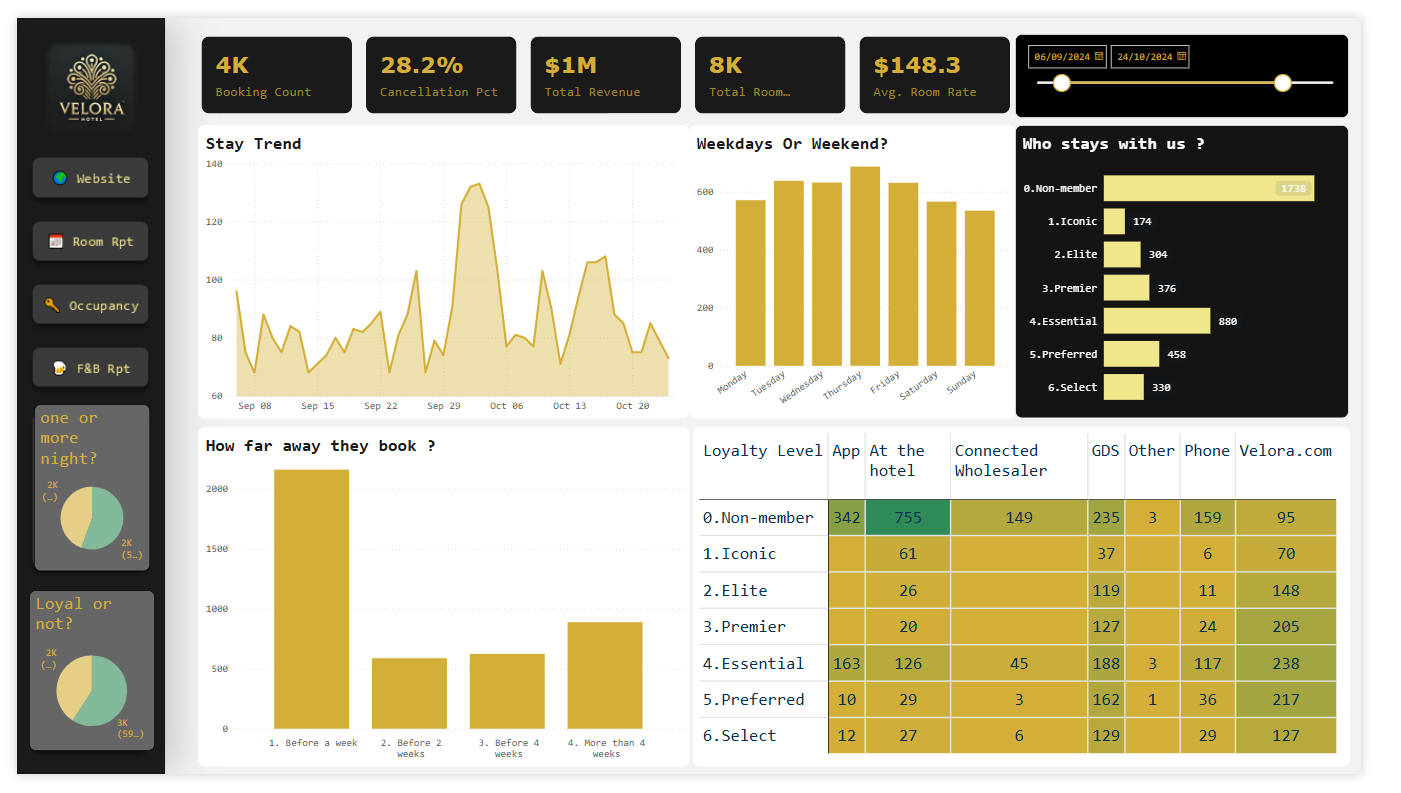

What the dashboard file says about the page in this screenshot:
{"tool":"powerbi","page":{"name":"Bookings Report BLANK","canvas":[1920,1080],"ordinal":0},"visuals":[{"type":"cardVisual","fields":{"Data":["bookings.Booking Count","bookings.Cancellation Pct","bookings.Total Revenue","bookings.Total Room Nights","bookings.Avg. Room Rate"]},"box":[258,22,1168,120],"z":0},{"type":"lineChart","title":"Stay Trend","fields":{"Category":["bookings.Stay Date"],"Y":["bookings.Booking Count"]},"box":[258,153,702.3,419],"z":1000},{"type":"slicer","fields":{"Values":["bookings.Stay Date"]},"box":[1425.8,22.6,477.5,119.7],"z":2000},{"type":"clusteredColumnChart","title":"Weekdays Or Weekend?","fields":{"Category":["bookings.Day Name"],"Y":["CountNonNull(bookings.Booking Date)"]},"box":[960.3,153,465.5,419],"z":3000},{"type":"clusteredBarChart","title":"Who stays with us ?","fields":{"Category":["bookings.Loyalty Level"],"Y":["bookings.Booking Count"]},"box":[1425.8,153,477.5,419],"z":4000},{"type":"clusteredColumnChart","title":"How far away they book ?","fields":{"Category":["bookings.How far away bucket"],"Y":["bookings.Booking Count"]},"box":[258,583.9,702.3,485.5],"z":5000},{"type":"pivotTable","fields":{"Rows":["bookings.Loyalty Level"],"Columns":["bookings.Booking Channel"],"Values":["bookings.Booking Count"]},"box":[965.6,583.9,937.7,485.5],"z":6000},{"type":"pieChart","title":"one or more night?","fields":{"Y":["bookings.Multi-night booking count","bookings.Single night booking count"]},"box":[23.9,552,166.3,239.4],"z":7000},{"type":"pieChart","title":"Loyal or not?","fields":{"Y":["bookings.Loyal Customer Booking Count","bookings.Not Loyal Customer Booking Count"]},"box":[17.3,816.7,179.6,230.1],"z":8000}]}

Visuals, with their boxes in screenshot pixels (x1, y1, x2, y2), scaled from the page's 1920x1080 canvas onto the 1401x793 screenshot:
cardVisual - bookings.Booking Count x bookings.Cancellation Pct: bbox(188, 16, 1041, 104)
"Stay Trend" lineChart: bbox(188, 112, 701, 420)
slicer - bookings.Stay Date: bbox(1040, 17, 1389, 104)
"Weekdays Or Weekend?" clusteredColumnChart: bbox(701, 112, 1040, 420)
"Who stays with us ?" clusteredBarChart: bbox(1040, 112, 1389, 420)
"How far away they book ?" clusteredColumnChart: bbox(188, 429, 701, 785)
pivotTable - bookings.Loyalty Level x bookings.Booking Channel: bbox(705, 429, 1389, 785)
"one or more night?" pieChart: bbox(17, 405, 139, 581)
"Loyal or not?" pieChart: bbox(13, 600, 144, 769)
